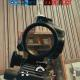Character: (40, 37, 44, 39)
